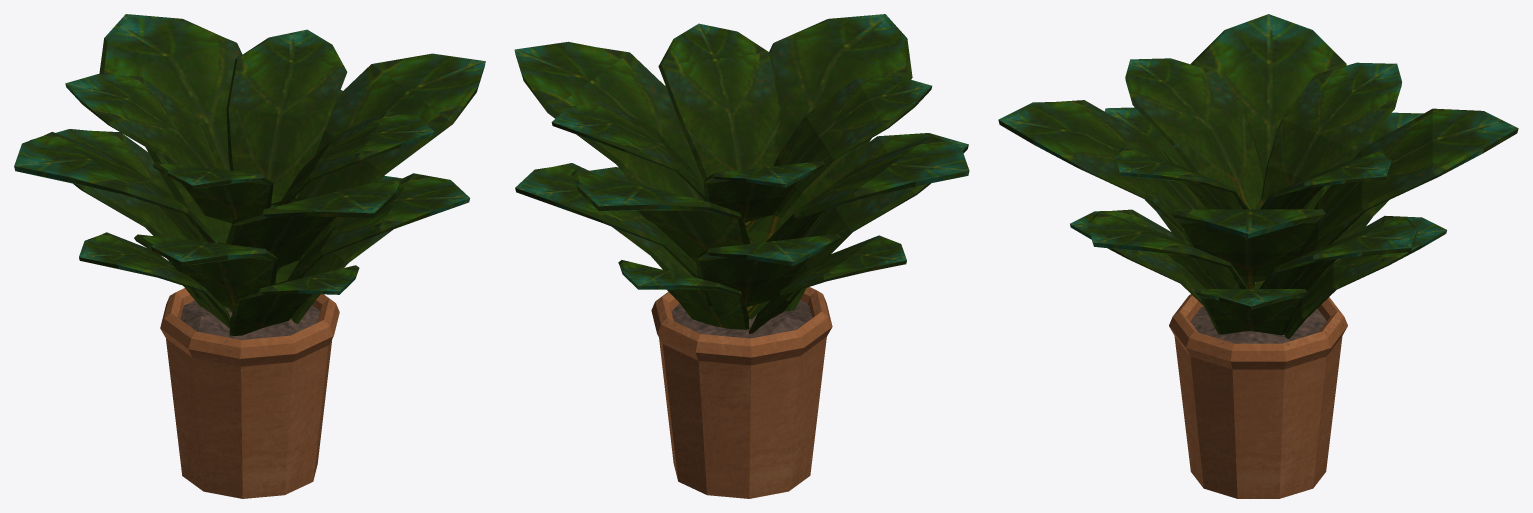
The model's file is PottedPlant_02.fbx.
The picture shows the model from 3 angles, left to right: view 1: azimuth 30°, elevation 25°; view 2: azimuth 150°, elevation 25°; view 3: azimuth 270°, elevation 25°; orthographic projection. The views are drawn at different scales.
Parts seen in each view (by area): view 1: leaflet, pot; view 2: leaflet, pot; view 3: leaflet, pot.
Boxes of the visible parts, <box> form: leaflet: <box>14,14,485,335</box>; pot: <box>160,288,339,498</box>; leaflet: <box>514,14,969,333</box>; pot: <box>651,287,832,498</box>; leaflet: <box>998,14,1518,338</box>; pot: <box>1169,294,1347,498</box>.
Size of the model in its own units: 817 by 613 by 817.
